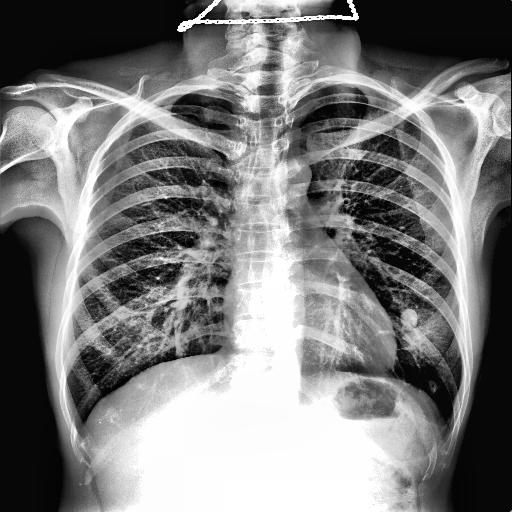7- Lung Opacity: (396, 308, 450, 360)
8- Nodule-Mass: (398, 308, 418, 327), (400, 306, 418, 326), (400, 308, 416, 326)
9- Other lesion: (400, 306, 418, 326)
